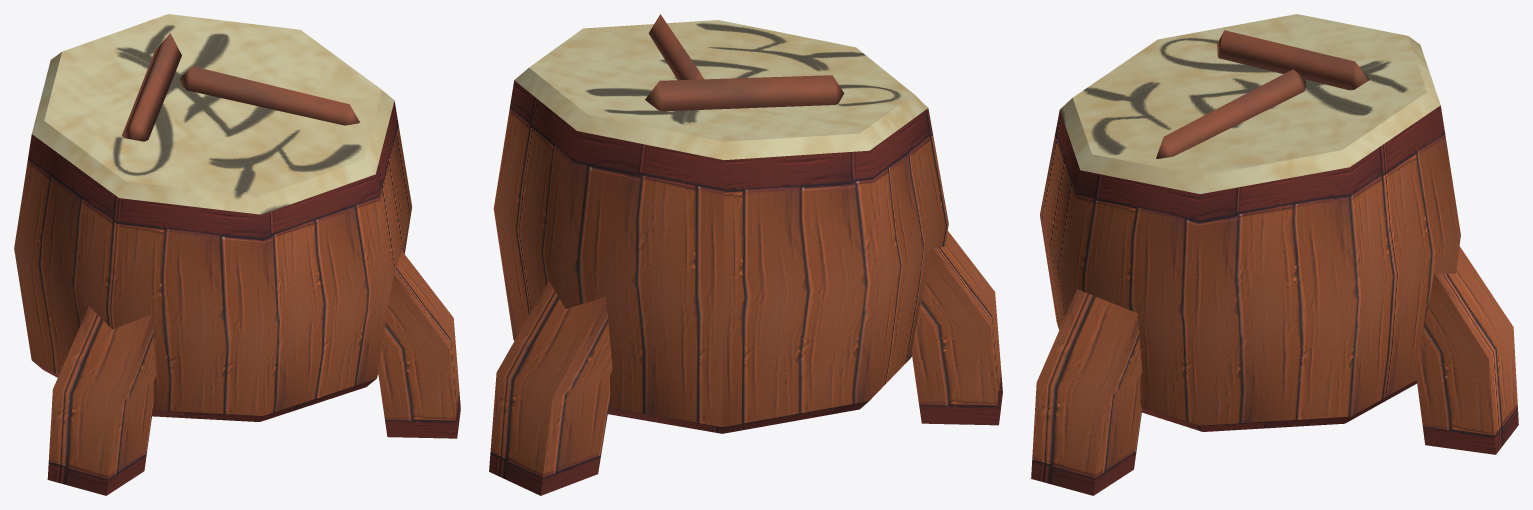
The model's file is polygonalmind-lunar-year-013.glb.
3 views of the same model, side by side, from view 1: azimuth 30°, elevation 25°; view 2: azimuth 150°, elevation 25°; view 3: azimuth 270°, elevation 25° (orthographic). The views are drawn at different scales.
Visible parts, largest first — view 1: Drum; view 2: Drum; view 3: Drum.
Boxes of the visible parts, box(x1,y1,x2,y2) form: Drum: box(14, 14, 460, 495); Drum: box(489, 14, 1002, 495); Drum: box(1031, 14, 1518, 495).
Size of the model in its own units: 1.94 by 1.58 by 2.01.
Materials: 2 (2 with a texture image).
